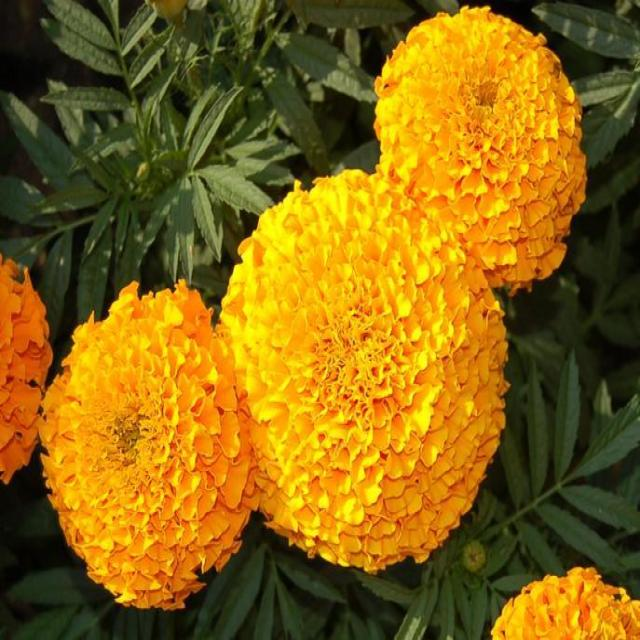marigold: (43, 0, 598, 640)
